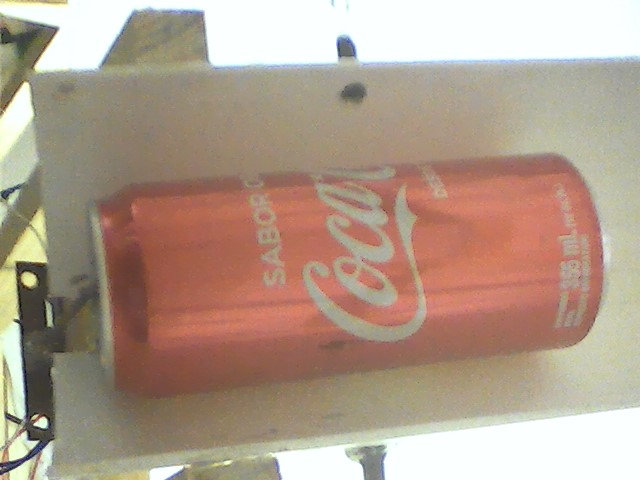lata: (83, 148, 617, 401)
